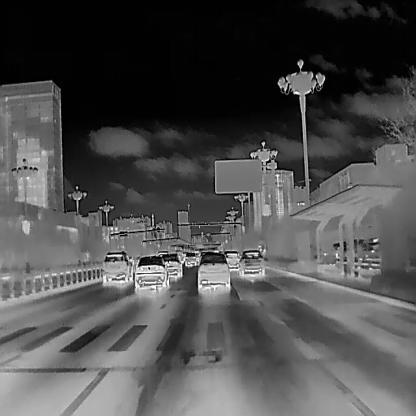car: (133, 254, 168, 292), (197, 253, 229, 293), (102, 250, 131, 285), (239, 247, 265, 275), (161, 253, 182, 280), (223, 250, 241, 271), (183, 253, 197, 267)
